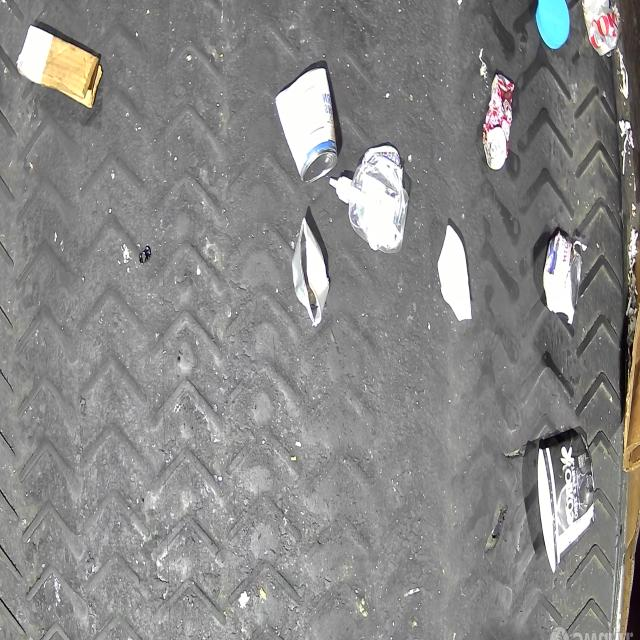can: (275, 68, 337, 184), (291, 218, 329, 326), (482, 72, 516, 170), (544, 230, 581, 314), (582, 1, 622, 58)
